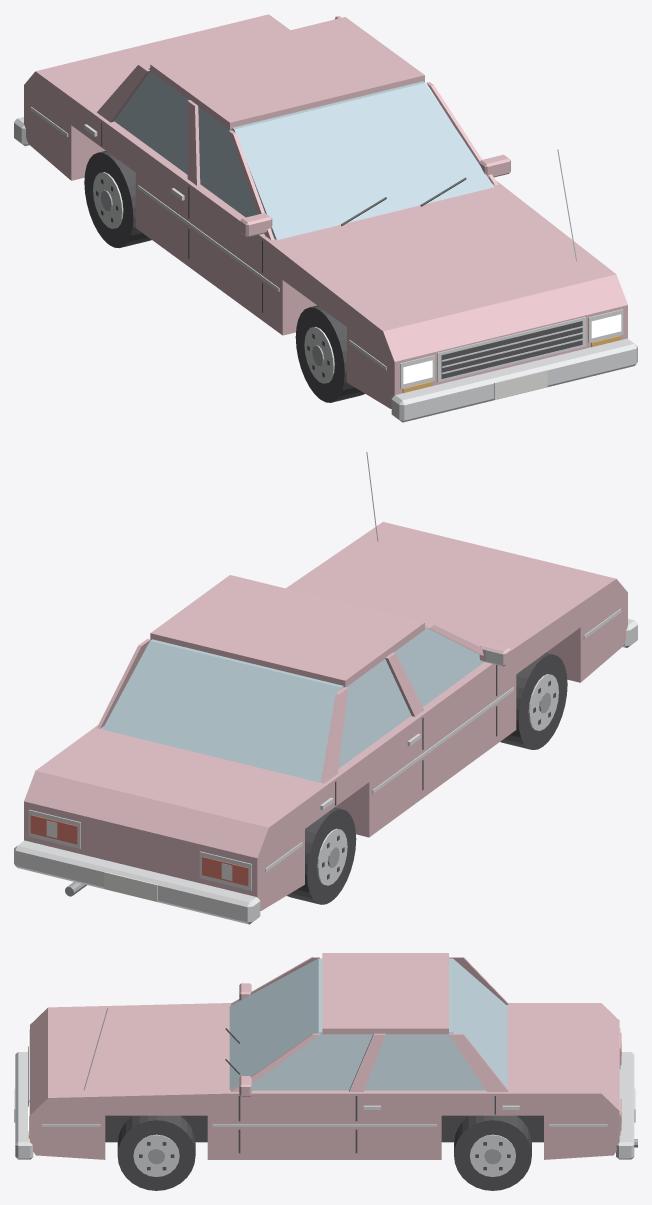
File: car_sedan_p.glb
3 renders of one model, top to bottom at view 1: azimuth 30°, elevation 25°; view 2: azimuth 150°, elevation 25°; view 3: azimuth 270°, elevation 25°, orthographic. The views are drawn at different scales.
Parts seen in each view (by area): view 1: car_sedan_p_car_p, car_sedan_p_glass, car_sedan_p_chrome, car_sedan_p_rubber, car_sedan_p_dark, car_sedan_p_lamp_glass, car_sedan_p_paint_w; view 2: car_sedan_p_car_p, car_sedan_p_glass, car_sedan_p_chrome, car_sedan_p_rubber, car_sedan_p_neon_r, car_sedan_p_paint_w; view 3: car_sedan_p_car_p, car_sedan_p_glass, car_sedan_p_rubber, car_sedan_p_chrome, car_sedan_p_dark, car_sedan_p_steel.
Part boxes in pixels (<box>): car_sedan_p_car_p: <box>24,14,627,408</box>; car_sedan_p_glass: <box>114,68,493,240</box>; car_sedan_p_chrome: <box>14,106,637,422</box>; car_sedan_p_rubber: <box>84,150,364,402</box>; car_sedan_p_dark: <box>96,122,582,378</box>; car_sedan_p_lamp_glass: <box>403,314,621,384</box>; car_sedan_p_paint_w: <box>494,370,547,399</box>; car_sedan_p_car_p: <box>24,522,627,910</box>; car_sedan_p_glass: <box>102,626,483,782</box>; car_sedan_p_chrome: <box>14,451,637,924</box>; car_sedan_p_rubber: <box>287,652,567,904</box>; car_sedan_p_neon_r: <box>30,815,248,886</box>; car_sedan_p_paint_w: <box>46,820,232,901</box>; car_sedan_p_car_p: <box>30,953,619,1159</box>; car_sedan_p_glass: <box>229,958,507,1090</box>; car_sedan_p_rubber: <box>105,1115,543,1190</box>; car_sedan_p_chrome: <box>15,1008,634,1176</box>; car_sedan_p_dark: <box>28,1028,510,1170</box>; car_sedan_p_steel: <box>148,1139,637,1164</box>.
Size of the model in its own units: 2 by 1.6 by 5.12.
